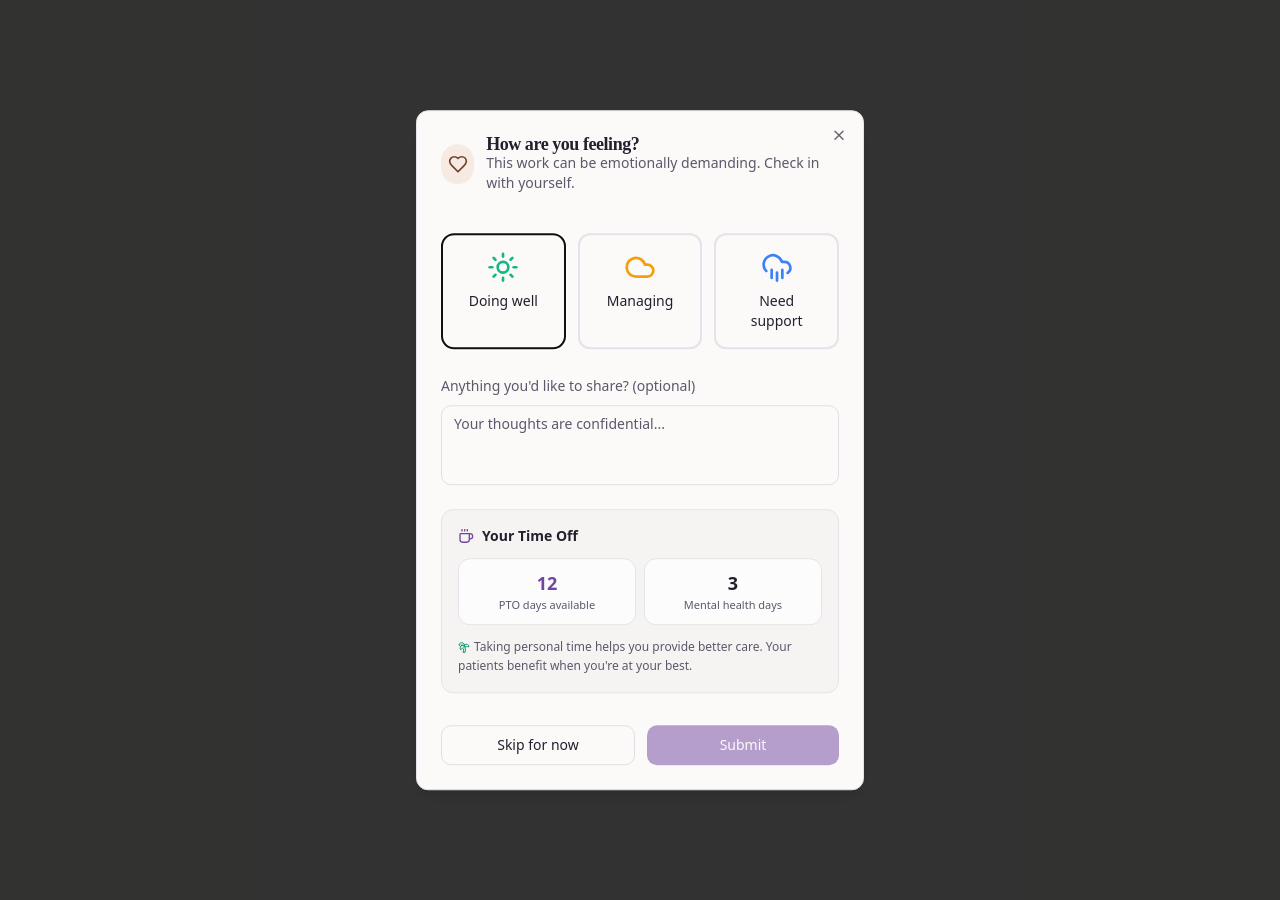
Test: WellnessCheckIn › submit button enables after mood selection
Click the button with aria-label "Mood: Doing well" at (503, 291), box [441, 233, 566, 349]
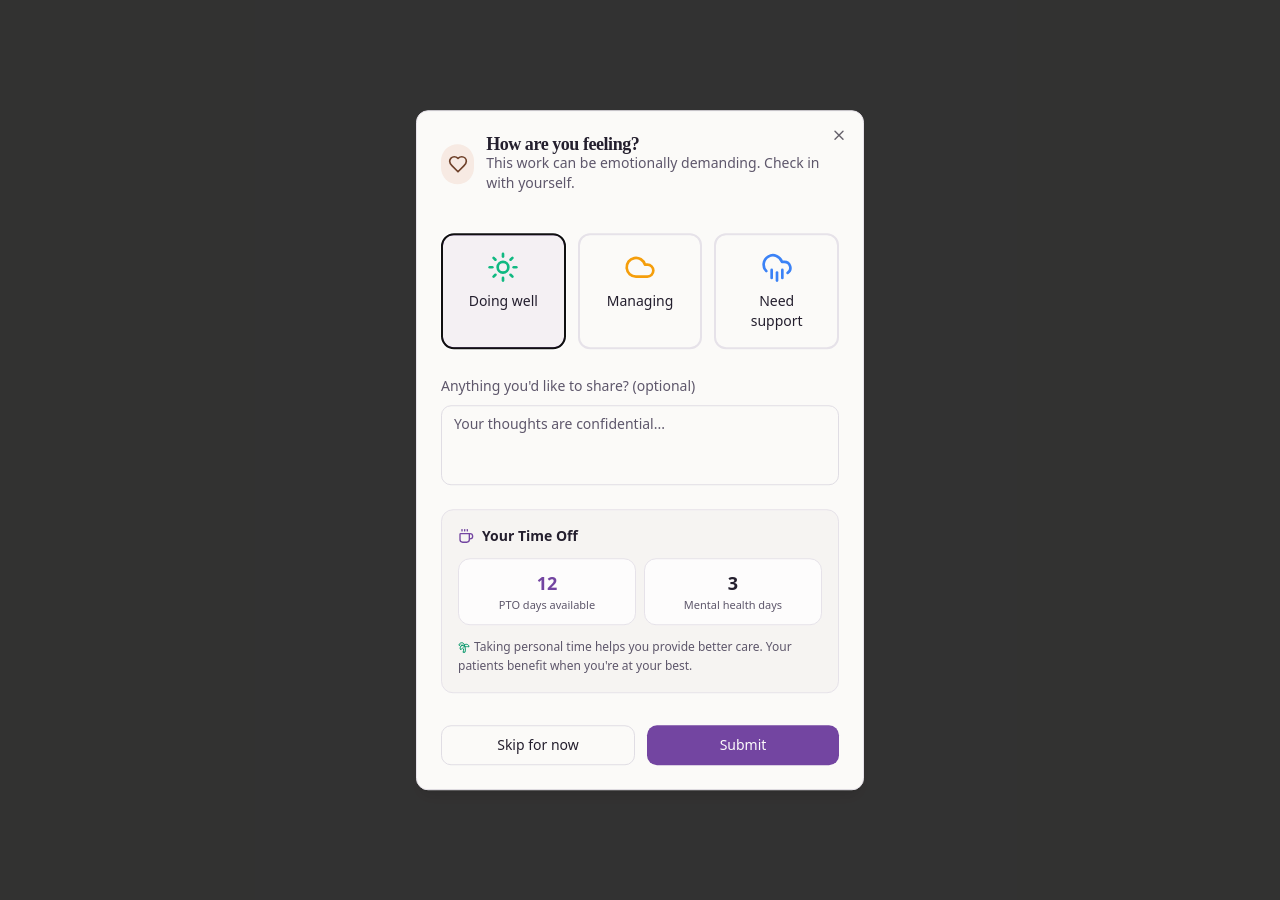
Expected: the button "Submit" is enabled, [647, 725, 839, 765]
